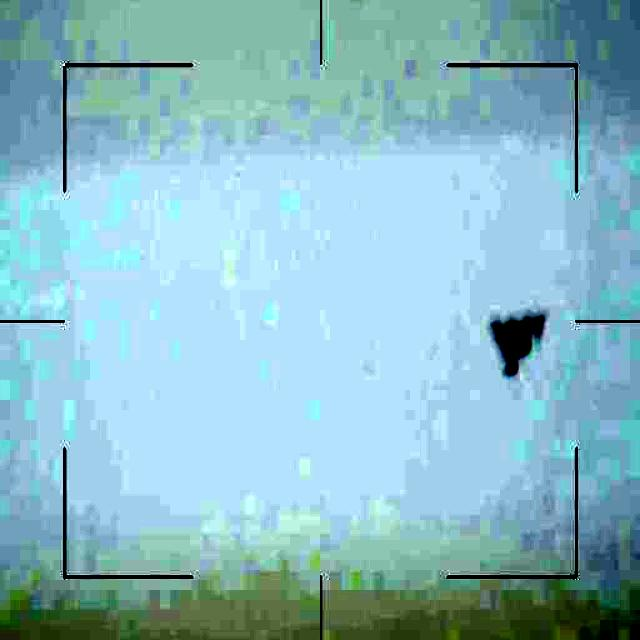bird: (488, 310, 549, 381)
